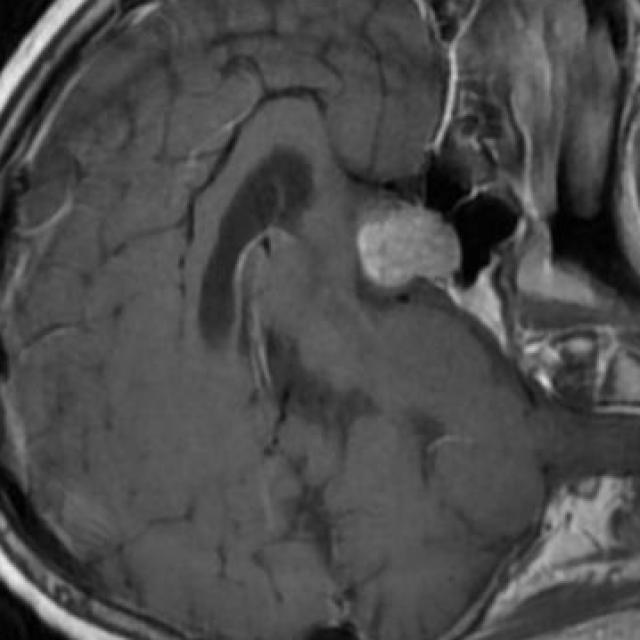pituitary: (358, 209, 462, 289)
